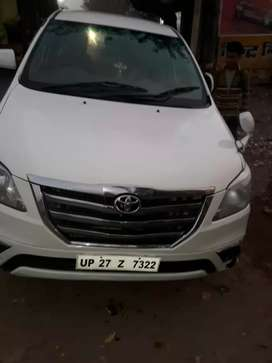UP27Z7322: (76, 254, 161, 273)
